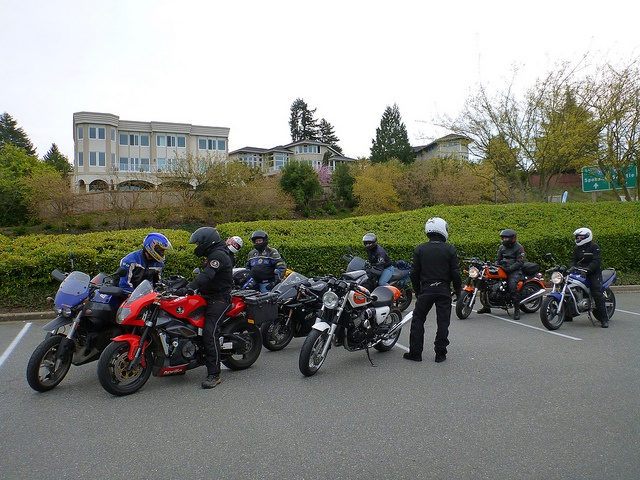non-vehicle: (94, 267, 283, 400), (27, 252, 127, 393), (299, 278, 413, 377), (262, 268, 367, 350), (455, 249, 546, 318), (543, 267, 618, 327), (343, 255, 412, 311)
